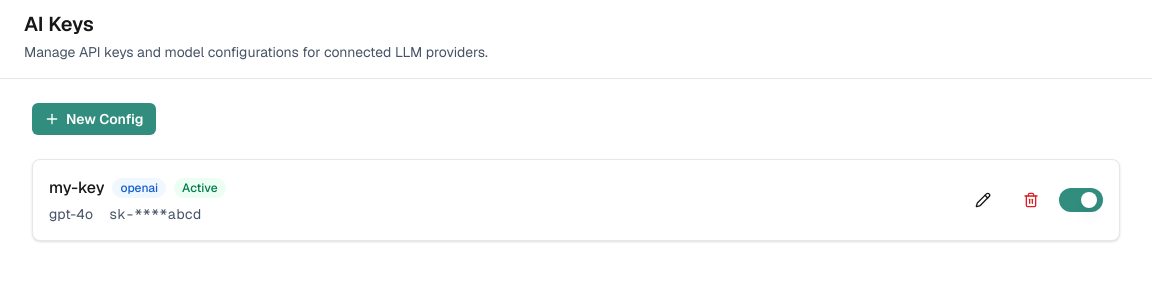
AI Keys page › keeps the list and shows a failed toggle in the row
The image size is (1152, 287).
Click the switch named "Turn my-key on or off".
click(1081, 200)  # box [1059,188,1103,212]
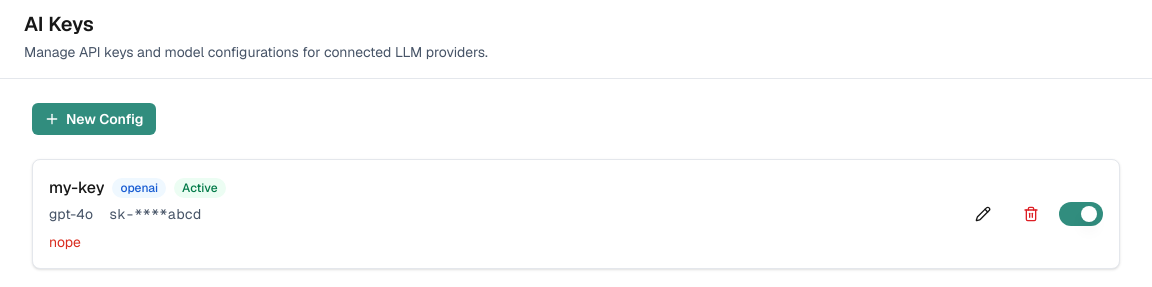
Expected: the list item shows "my-key", [49,177,104,198]
Result: the text "nope" is shown at [49,233,81,251]
